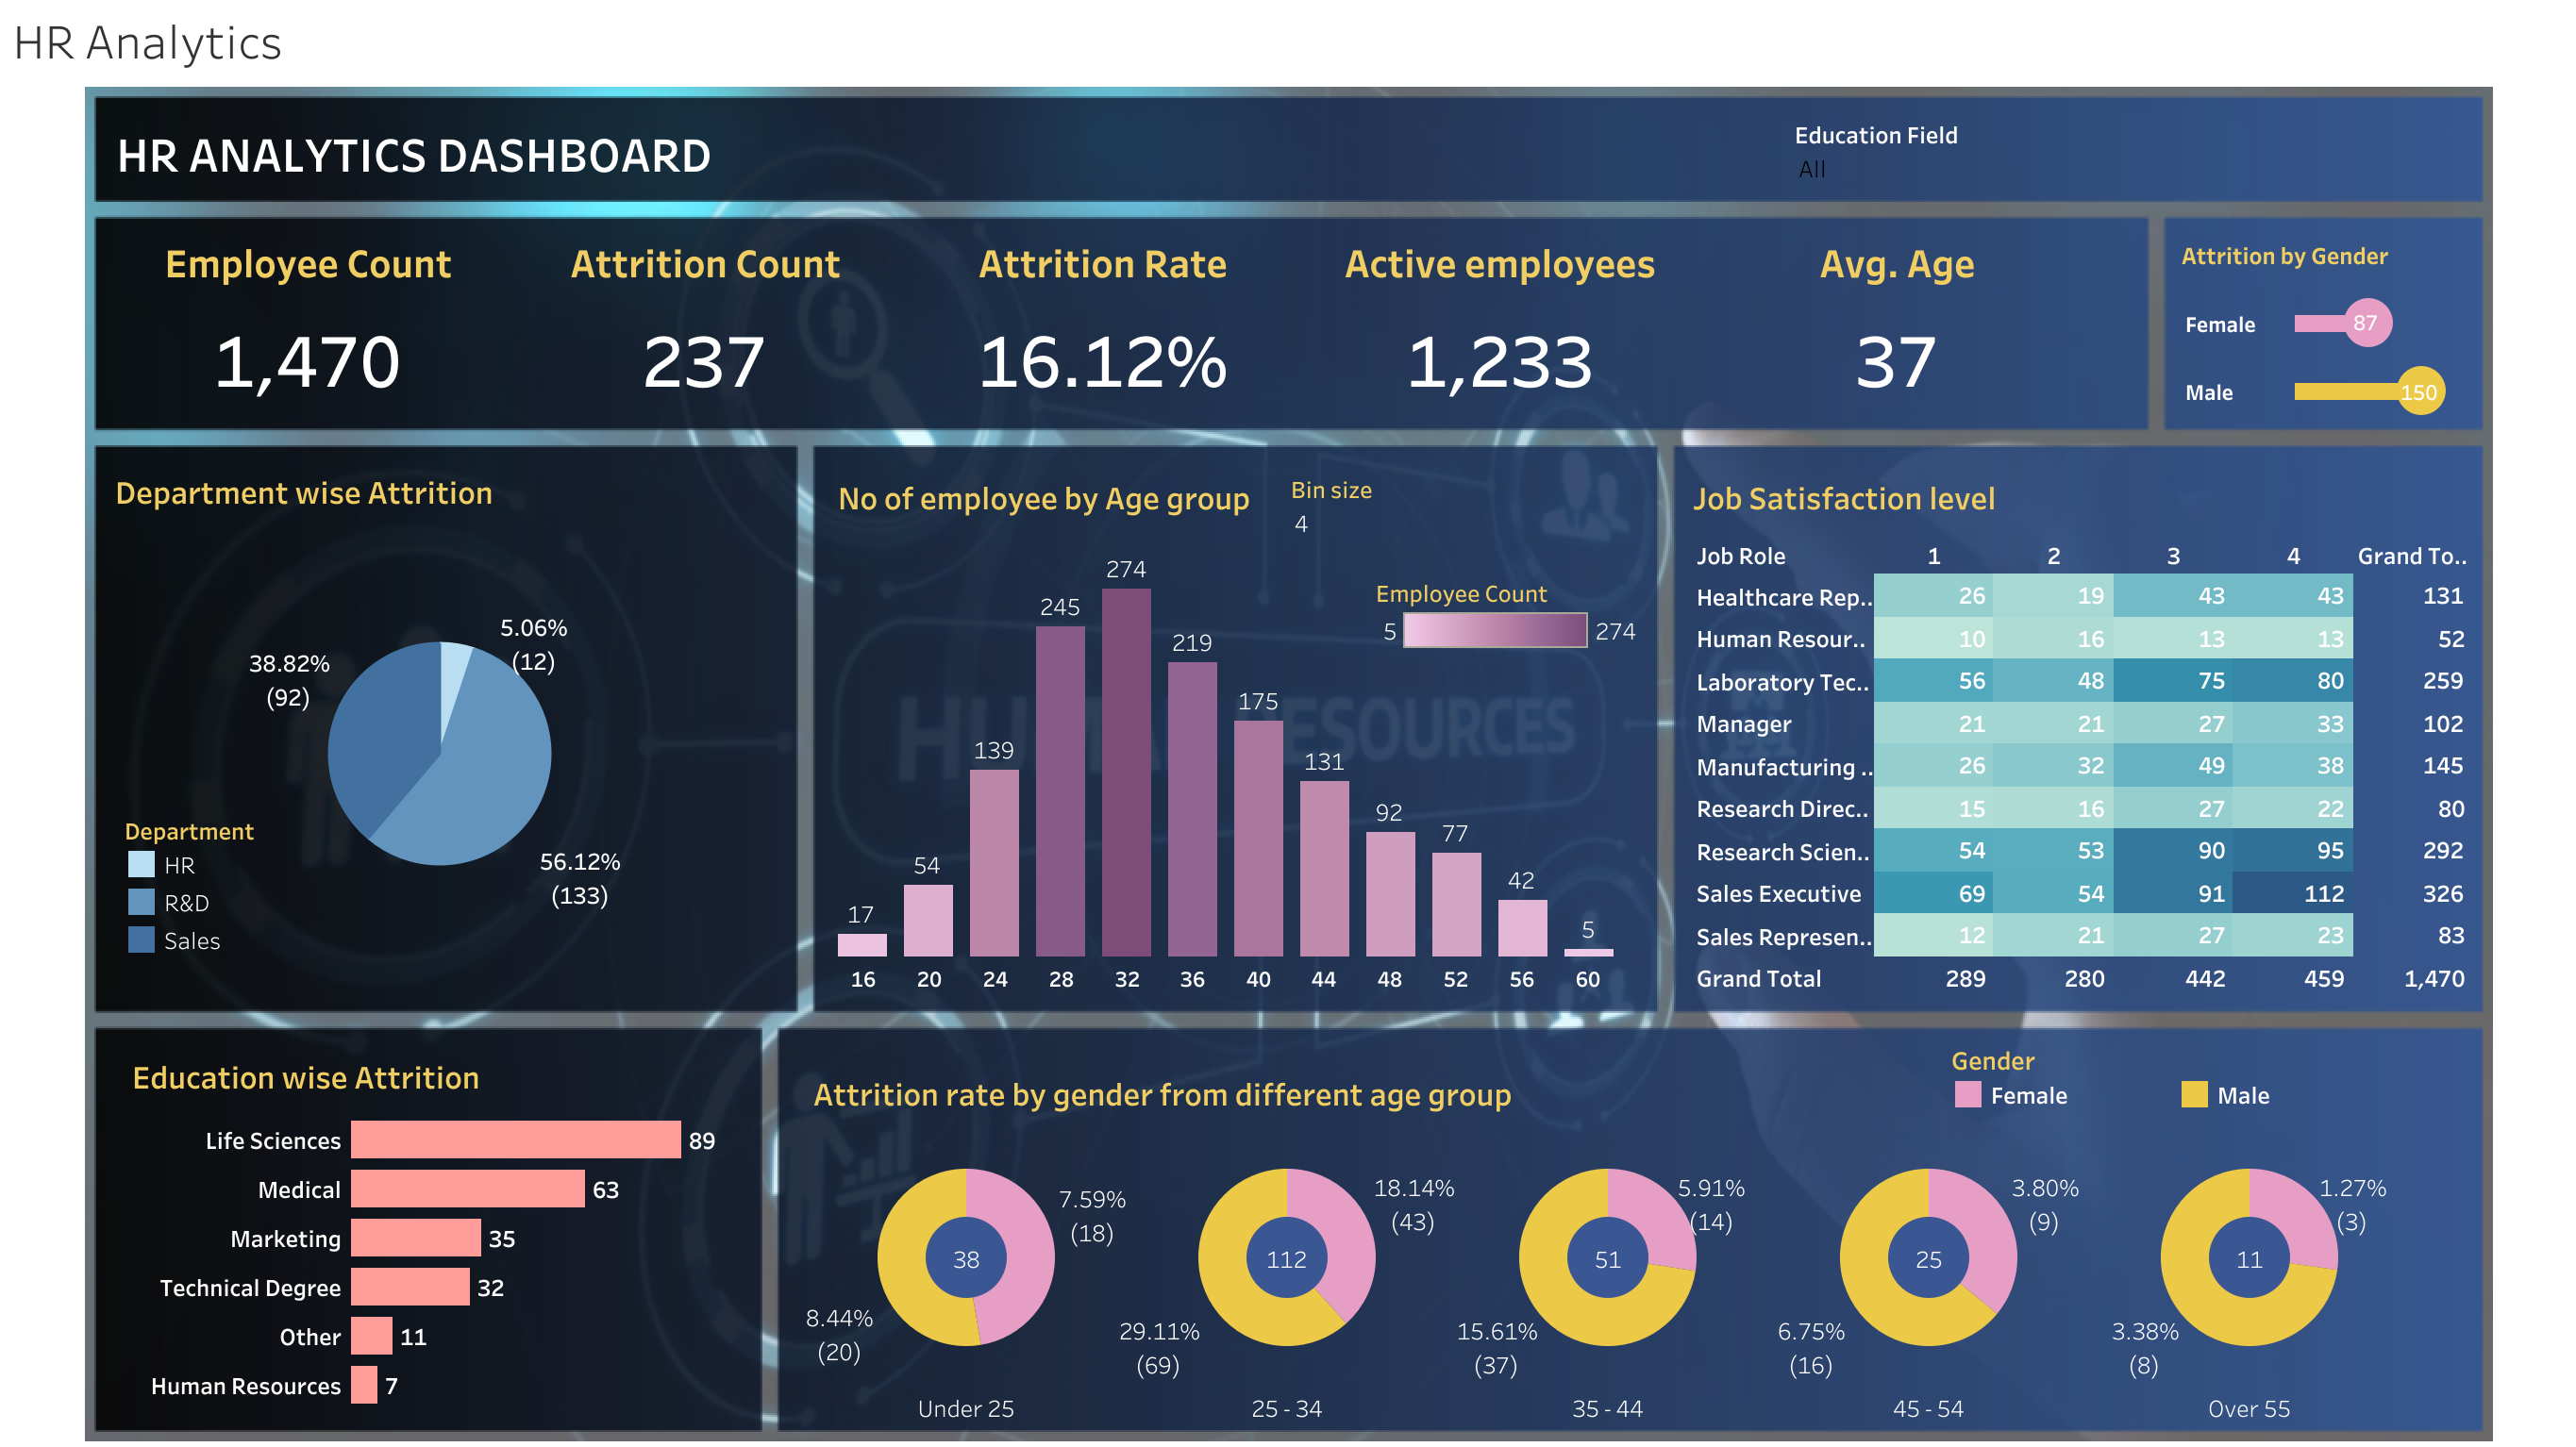

What the dashboard file says about the page in this screenshot:
{"tool":"tableau","page":{"name":"HR Analytics","canvas":[1366,768],"ordinal":0},"visuals":[{"type":"title","box":[0,0,1366,42]},{"type":"image","param":"Image/HR background.pptx.png","box":[0,42,1366,726]},{"type":"text","box":[59,58,449,45]},{"type":"filter","title":"Department wise Attrition","param":"[federated.1a2eve60dkwtuz193agjj053i7hy].[none:Education Field:nk]","box":[951.4,60.7,234.5,61.9]},{"type":"worksheet","title":"KPI","mark":"Automatic","box":[58,119,1053,102]},{"type":"worksheet","title":"Attrition by gender","mark":"Automatic","rows":["Gender"],"cols":["Calculation_1603774070458286080","Calculation_1603774070458286080"],"box":[1152,120,147,105]},{"type":"worksheet","title":"Department wise Attrition","mark":"Pie","box":[57,243,352,275]},{"type":"worksheet","title":"No of employee by Age group","mark":"Automatic","rows":["Employee Count"],"cols":["Age (bin)"],"box":[440,246,419,281]},{"type":"worksheet","title":"Job Satisfaction level","mark":"Square","rows":["Job Role"],"cols":["Job Satisfaction"],"box":[893,246,418,283]},{"type":"parameter","param":"[Parameters].[Parameter 1]","box":[684,249,185,59]},{"type":"legend","title":"No of employee by Age group","param":"[federated.1a2eve60dkwtuz193agjj053i7hy].[sum:Employee Count:qk]","box":[729,301,143,91]},{"type":"legend","title":"Department wise Attrition","param":"[federated.1a2eve60dkwtuz193agjj053i7hy].[none:Department:nk]","box":[65,429,86,98]},{"type":"legend","title":"Attrition rate by gender from different age group","param":"[federated.1a2eve60dkwtuz193agjj053i7hy].[none:Gender:nk]","box":[1033,550,281,57]},{"type":"worksheet","title":"Education wise Attrition","mark":"Automatic","rows":["Education Field"],"cols":["Calculation_1603774070458286080"],"box":[66,553,328,194]},{"type":"worksheet","title":"Attrition rate by gender from different age group","mark":"Pie","rows":["Calculation_645281406706921473","Calculation_645281406706921473"],"cols":["CF_age band"],"box":[427,562,850,193]}]}

Visuals, with their boxes in screenshot pixels (x1, y1, x2, y2), scaled from the page's 1366x768 canvas onto the 2576x1447 screenshot:
title: {"left": 0, "top": 0, "right": 2575, "bottom": 79}
image: {"left": 0, "top": 79, "right": 2575, "bottom": 1446}
text: {"left": 111, "top": 109, "right": 958, "bottom": 194}
"Department wise Attrition" filter: {"left": 1794, "top": 114, "right": 2236, "bottom": 231}
"KPI" worksheet: {"left": 109, "top": 225, "right": 2095, "bottom": 416}
"Attrition by gender" worksheet: {"left": 2172, "top": 226, "right": 2450, "bottom": 424}
"Department wise Attrition" worksheet (Pie marks): {"left": 108, "top": 457, "right": 771, "bottom": 976}
"No of employee by Age group" worksheet: {"left": 829, "top": 463, "right": 1620, "bottom": 993}
"Job Satisfaction level" worksheet (Square marks): {"left": 1684, "top": 463, "right": 2472, "bottom": 997}
parameter: {"left": 1290, "top": 469, "right": 1639, "bottom": 580}
"No of employee by Age group" legend: {"left": 1375, "top": 567, "right": 1645, "bottom": 739}
"Department wise Attrition" legend: {"left": 123, "top": 808, "right": 285, "bottom": 993}
"Attrition rate by gender from different age group" legend: {"left": 1948, "top": 1037, "right": 2478, "bottom": 1143}
"Education wise Attrition" worksheet: {"left": 125, "top": 1042, "right": 743, "bottom": 1407}
"Attrition rate by gender from different age group" worksheet (Pie marks): {"left": 805, "top": 1059, "right": 2408, "bottom": 1422}
